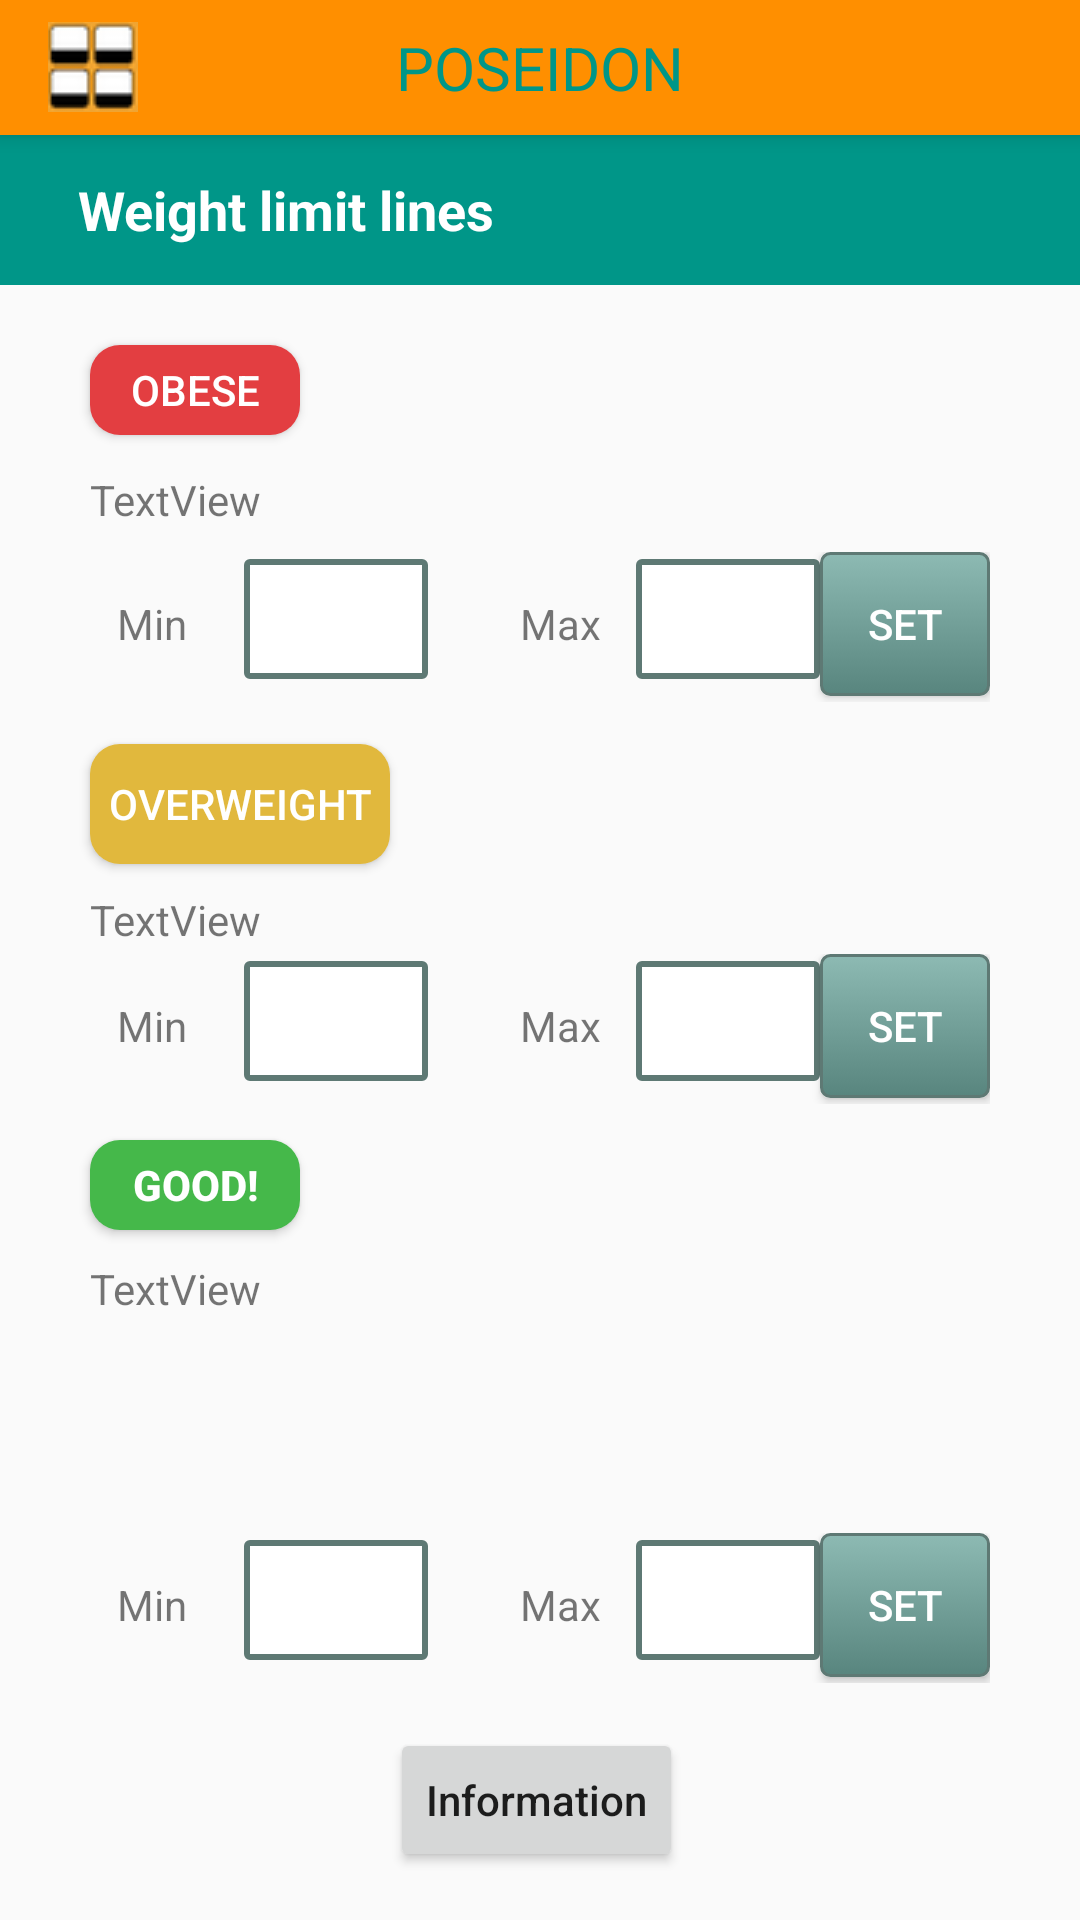

Icons on this 1080×1920 Android screen, each with the point to tap as point (x, y):
homebutton: point (93, 67)
